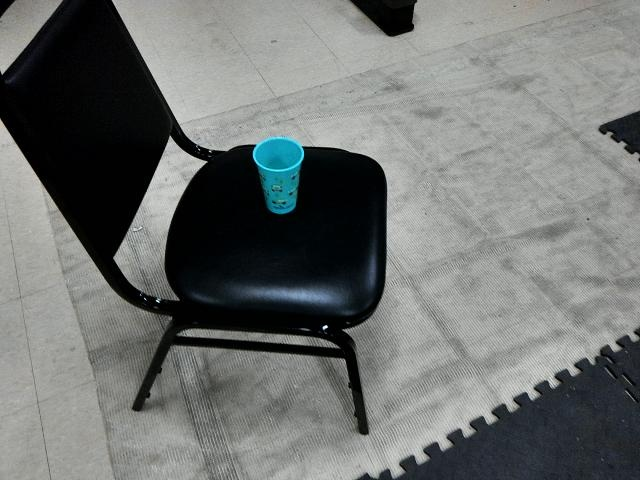coffee_cup: (249, 135, 308, 216)
